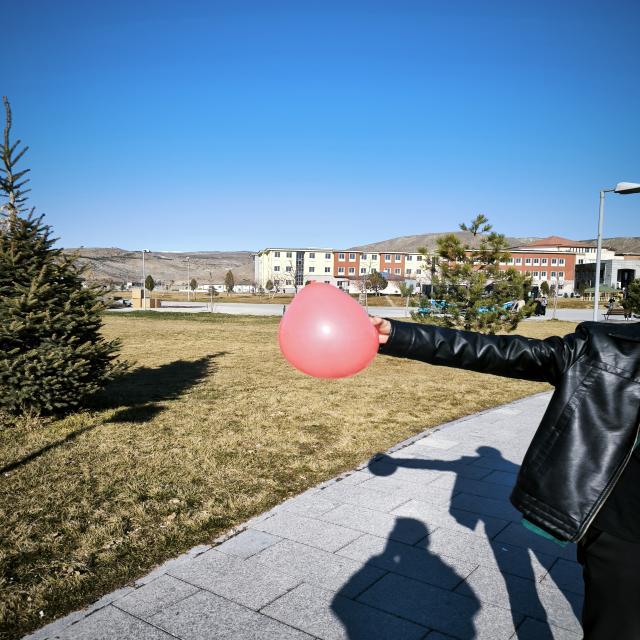balloon: (278, 281, 379, 379)
